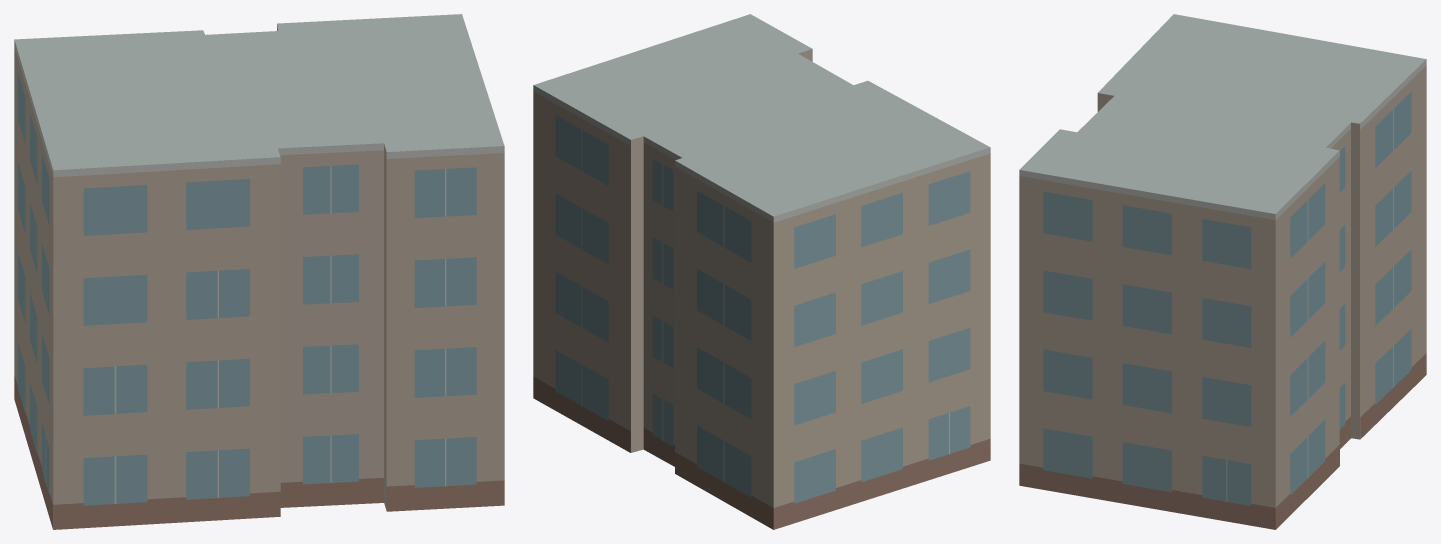
File: survey-upis-32767119.glb
The picture shows the model from 3 angles, left to right: view 1: azimuth 30°, elevation 25°; view 2: azimuth 150°, elevation 25°; view 3: azimuth 270°, elevation 25°; orthographic projection. The views are drawn at different scales.
Visible parts, largest first — view 1: survey-upis-32767119.tmp; view 2: survey-upis-32767119.tmp; view 3: survey-upis-32767119.tmp.
Part boxes in pixels (left/top/right/bottom): survey-upis-32767119.tmp: left=14, top=14, right=504, bottom=529; survey-upis-32767119.tmp: left=533, top=14, right=990, bottom=529; survey-upis-32767119.tmp: left=1019, top=14, right=1426, bottom=529.
Bounding box in the file's own units: 17.13 × 12.6 × 14.73.
